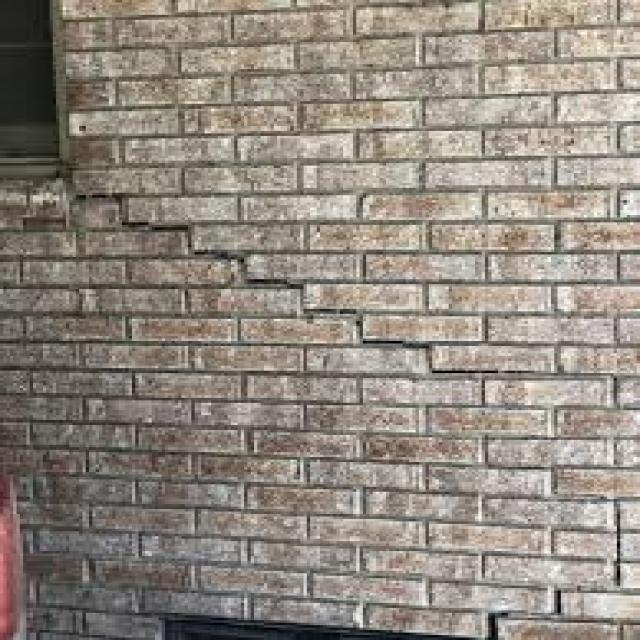Crack: (70, 188, 634, 410), (482, 499, 624, 638)
